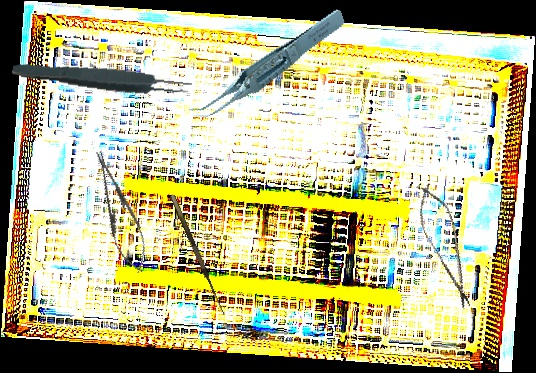Hook Surgical: (170, 191, 232, 317)
Micro Scissor: (409, 180, 483, 313)
Needle Holder: (84, 145, 156, 278)
Tissue Forceps: (174, 8, 359, 122), (11, 57, 193, 101)
